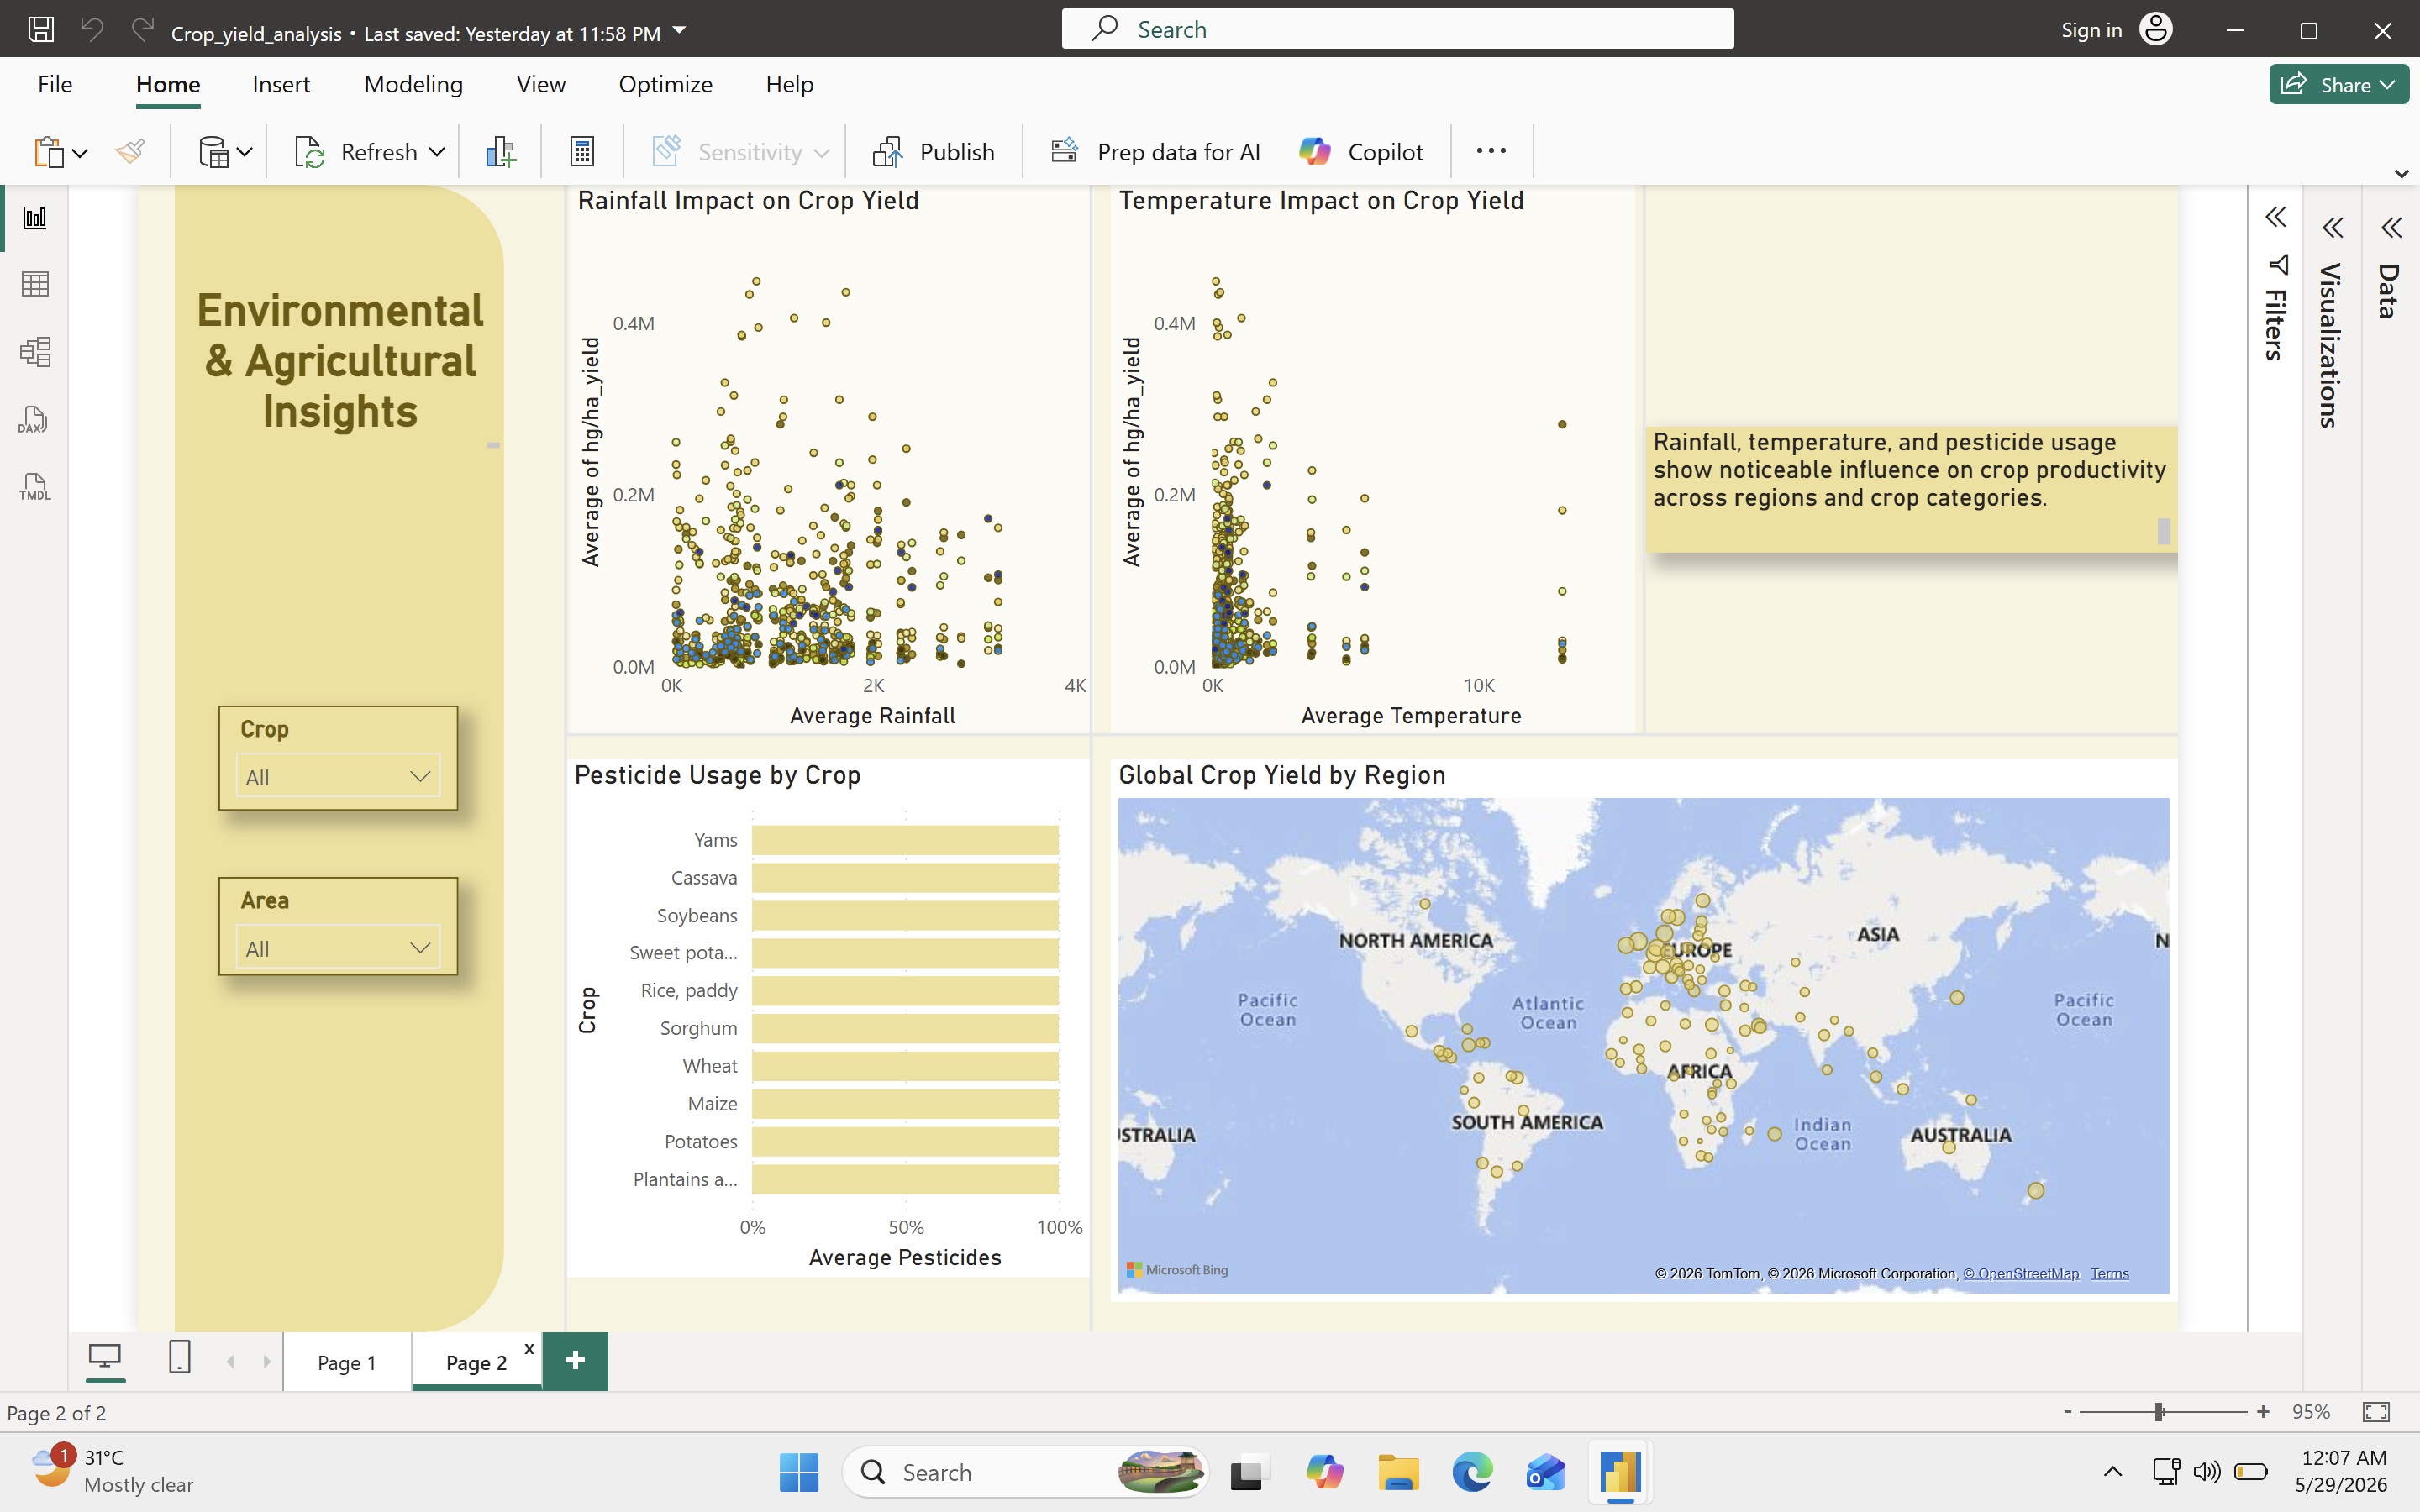

The page's visual inventory and layout, read from the dashboard file:
{"tool":"powerbi","page":{"name":"Page 2","canvas":[1280,720],"ordinal":1},"visuals":[{"type":"scatterChart","title":"Rainfall Impact on Crop Yield","fields":{"Series":["crop_cleaned.Crop"],"X":["Avg(crop_cleaned.average_rain_fall_mm_per_year)"],"Y":["Avg(crop_cleaned.hg/ha_yield)"],"Category":["crop_cleaned.Area"]},"box":[270.7,0,328.9,345.8],"z":0},{"type":"scatterChart","title":"Temperature Impact on Crop Yield","fields":{"Series":["crop_cleaned.Crop"],"Y":["Avg(crop_cleaned.hg/ha_yield)"],"Category":["crop_cleaned.Area"],"X":["Sum(crop_cleaned.avg_temp)"]},"box":[610.9,0,328.9,345.8],"z":1000},{"type":"hundredPercentStackedBarChart","title":"Pesticide Usage by Crop","fields":{"Category":["crop_cleaned.Crop"],"Y":["Avg(crop_cleaned.pesticides_tonnes)"]},"box":[268.8,360.9,328.9,325.2],"z":2000},{"type":"map","title":"Global Crop Yield by Region","fields":{"Category":["crop_cleaned.Area"],"Size":["Avg(crop_cleaned.hg/ha_yield)"]},"box":[610.9,360.9,669.1,340.2],"z":3000},{"type":"shape","box":[23.3,0,206.7,720],"z":4000},{"type":"textbox","title":"Environmental & Agricultural Insights","box":[22,62,210,108],"z":5000},{"type":"slicer","fields":{"Values":["crop_cleaned.Crop"]},"box":[50.7,327,150.4,65.8],"z":6001},{"type":"slicer","fields":{"Values":["crop_cleaned.Area"]},"box":[50.7,434.2,150.4,62],"z":6002},{"type":"shape","box":[152.2,0,233.1,719.9],"z":6005},{"type":"shape","box":[496.2,0,203,719.9],"z":6006},{"type":"shape","box":[268.8,278.2,1011.2,133.5],"z":6007},{"type":"textbox","title":"Rainfall, temperature, and pesticide usage show noticeable influence on crop productivity across regions and crop categories.","box":[945.4,152.2,334.6,78.9],"z":6008},{"type":"shape","box":[843.9,0,201.1,345.8],"z":6009}]}

Visuals, with their boxes on the page's 1280x720 design canvas (x1, y1, x2, y2). These are canvas units, not pixel positions in the 2420x1512 screenshot, which may show the page scaled, cropped or inside an application window:
"Rainfall Impact on Crop Yield" scatterChart: [left=271, top=0, right=600, bottom=346]
"Temperature Impact on Crop Yield" scatterChart: [left=611, top=0, right=940, bottom=346]
"Pesticide Usage by Crop" hundredPercentStackedBarChart: [left=269, top=361, right=598, bottom=686]
"Global Crop Yield by Region" map: [left=611, top=361, right=1280, bottom=701]
shape: [left=23, top=0, right=230, bottom=720]
"Environmental & Agricultural Insights" textbox: [left=22, top=62, right=232, bottom=170]
slicer - crop_cleaned.Crop: [left=51, top=327, right=201, bottom=393]
slicer - crop_cleaned.Area: [left=51, top=434, right=201, bottom=496]
shape: [left=152, top=0, right=385, bottom=720]
shape: [left=496, top=0, right=699, bottom=720]
shape: [left=269, top=278, right=1280, bottom=412]
"Rainfall, temperature, and pesticide usage show noticeable influence on crop productivity across regions and crop categories." textbox: [left=945, top=152, right=1280, bottom=231]
shape: [left=844, top=0, right=1045, bottom=346]
